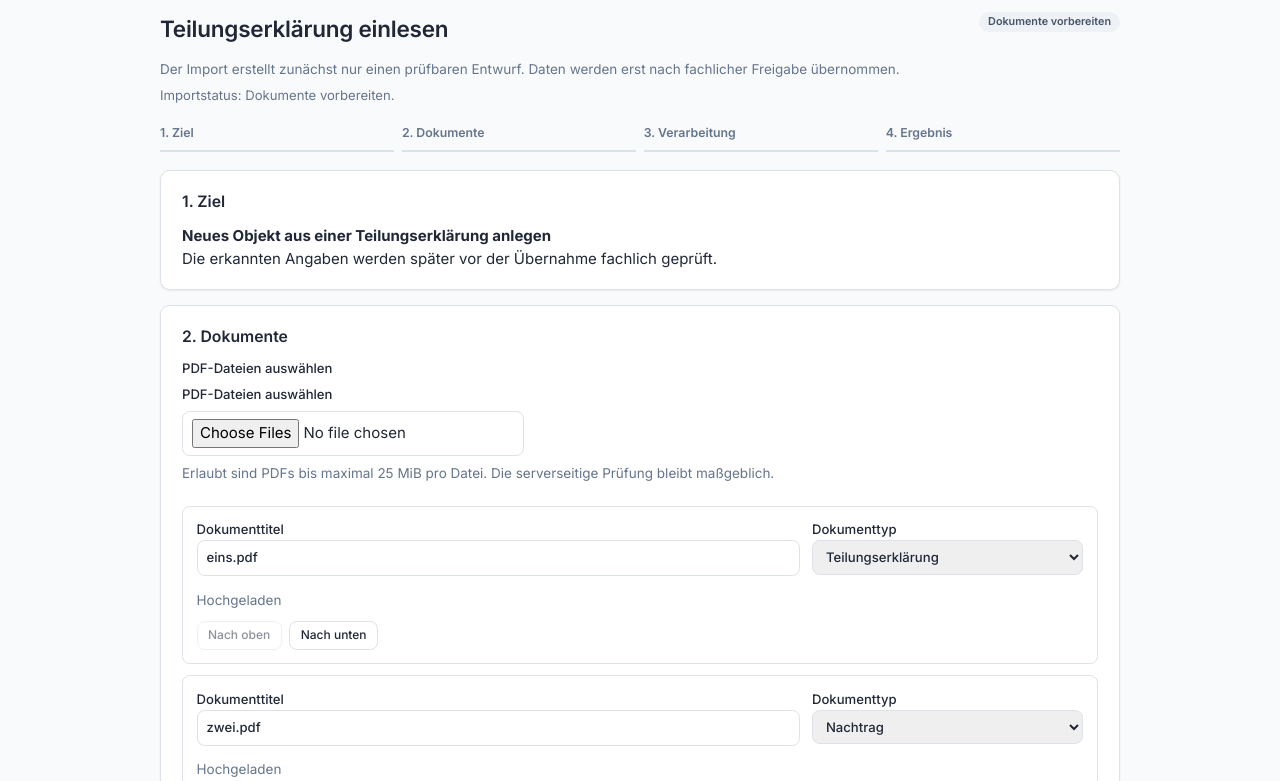
Test: Teilungserklärung upload wizard › reloads the persisted order after a reorder request fails
This screenshot has width=1280, height=781.
Click the button with aria-label "eins.pdf nach unten verschieben". click: click(334, 635)
box: left=289, top=621, right=378, bottom=650
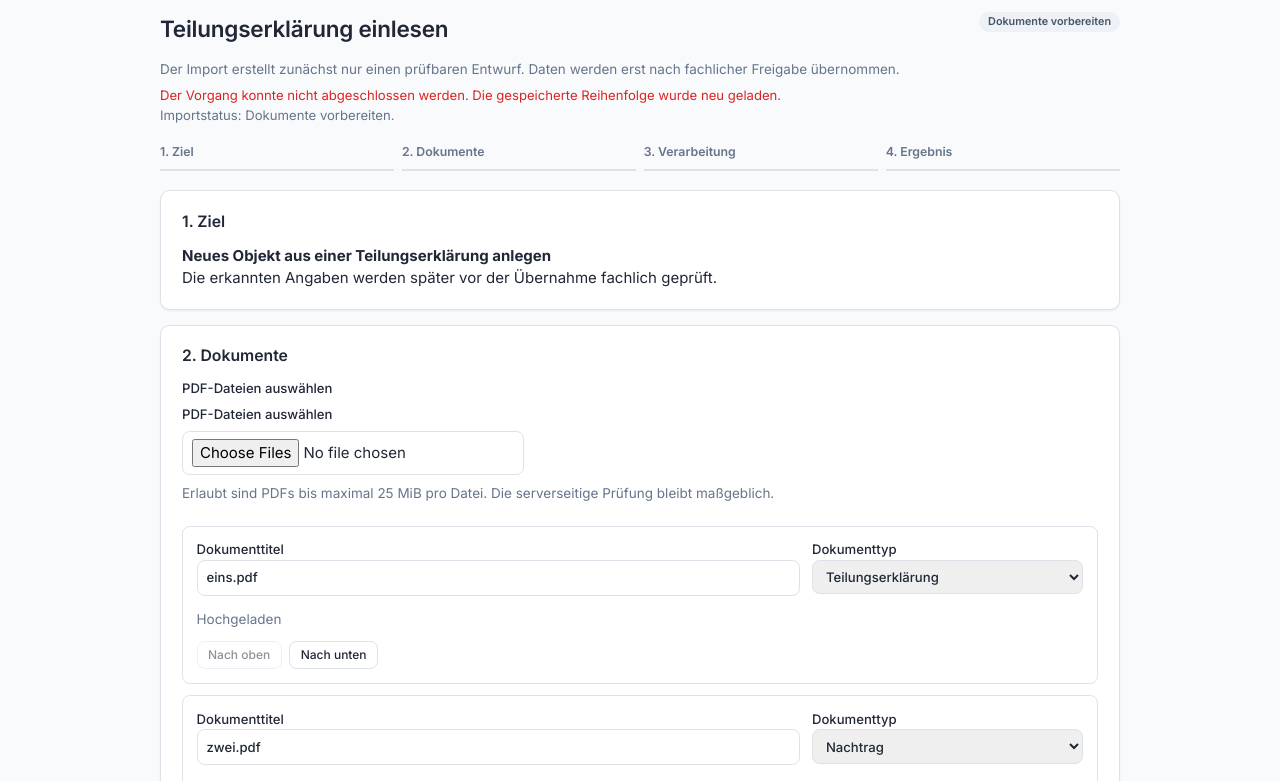
expect the message shows "gespeicherte Reihenfolge wurde neu geladen": met, box left=160, top=87, right=781, bottom=103
